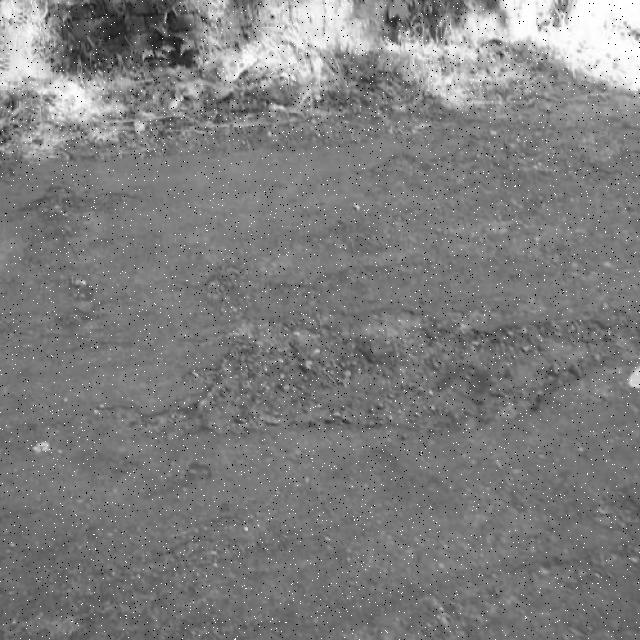pothole: (132, 274, 640, 438)
